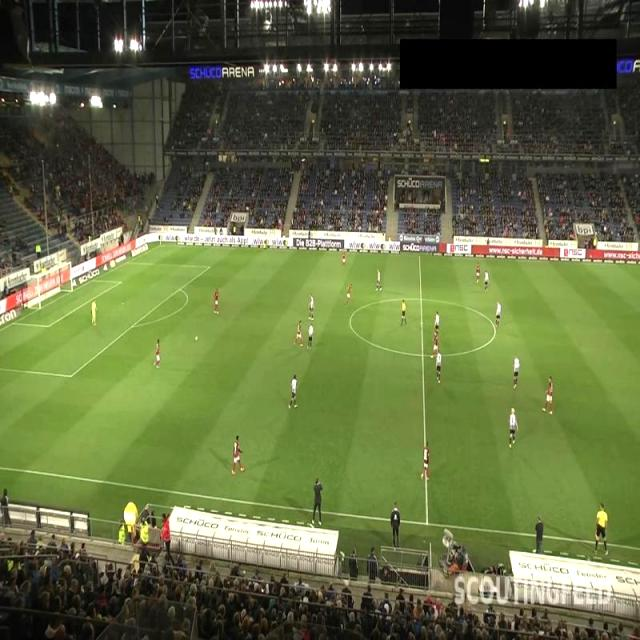bigarea_bottom_inner: (66, 371, 76, 382)
bigarea_top_inner: (203, 260, 214, 272)
bigarea_top_outter: (121, 256, 132, 266)
bottom_arc_area_intersection: (127, 321, 138, 332)
corner: (156, 240, 167, 250)
halfcircle_bottom: (418, 350, 428, 361)
halfcircle_top: (416, 293, 426, 304)
midline_bottom_intersection: (418, 511, 436, 535), (511, 596, 522, 608)
midline_top_intersection: (414, 250, 424, 260)
smallarea_bottom_inner: (43, 320, 54, 330)
smallarea_bottom_outter: (8, 316, 18, 328)
smallarea_top_inner: (114, 276, 125, 288)
smallarea_top_outter: (88, 274, 99, 284)
top_arc_area_intersection: (174, 284, 185, 294)
